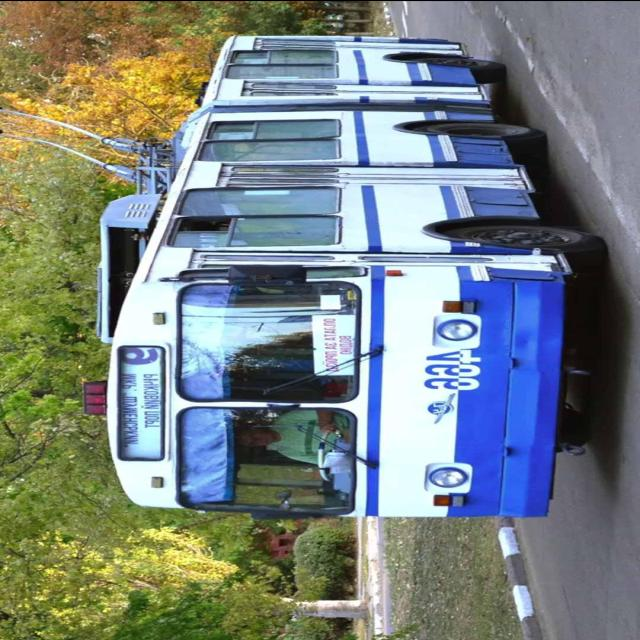bus: (80, 27, 610, 524)
